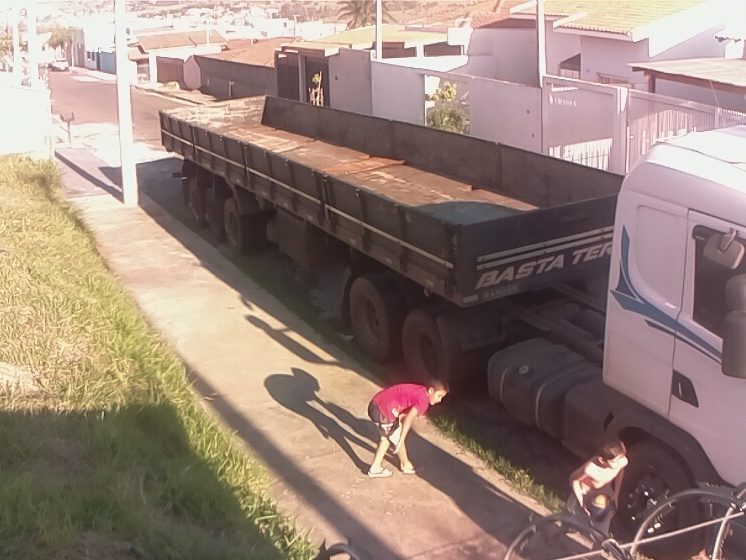person: (544, 433, 630, 560), (365, 373, 452, 480)
